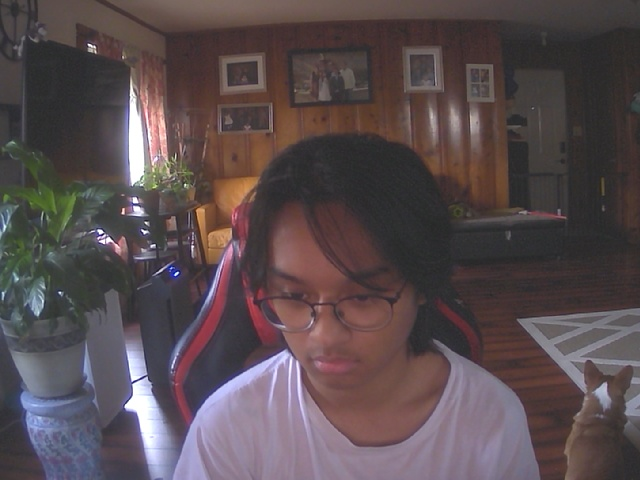neutral: (244, 148, 432, 391)
